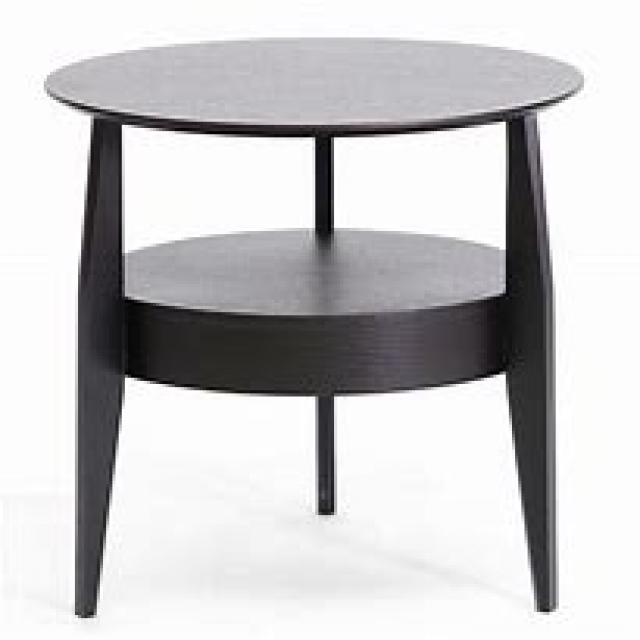mobile-phone: (45, 32, 572, 617)
